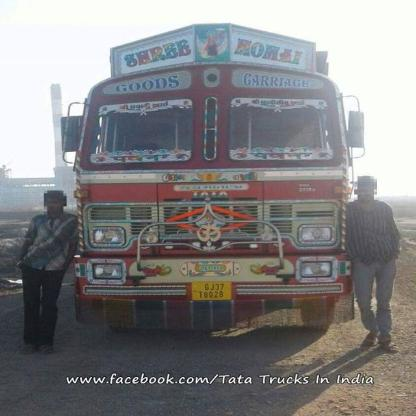truck: (64, 43, 368, 332)
